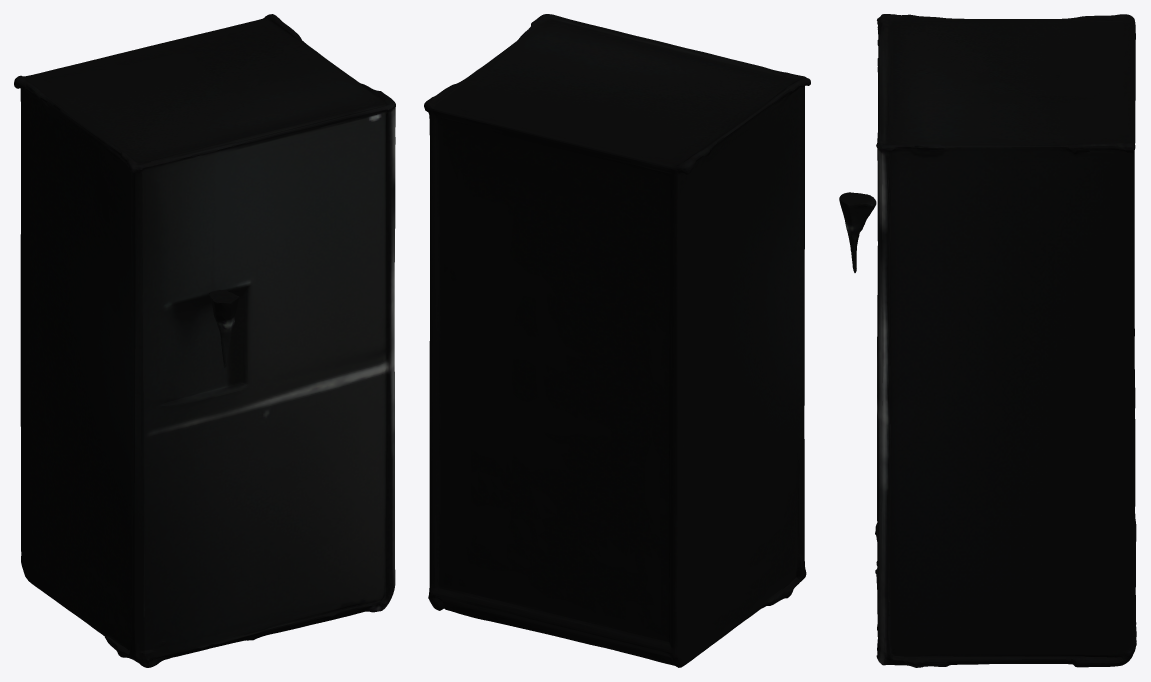
Rendered from Fridge.glb.
The picture shows the model from 3 angles, left to right: view 1: azimuth 30°, elevation 25°; view 2: azimuth 150°, elevation 25°; view 3: azimuth 270°, elevation 25°; orthographic projection. The views are drawn at different scales.
Visible parts, largest first — view 1: world; view 2: world; view 3: world.
Part boxes in pixels (left/top/right/bottom): world: left=14, top=14, right=395, bottom=667; world: left=424, top=14, right=810, bottom=667; world: left=839, top=14, right=1136, bottom=667.
Size of the model in its own units: 0.5478 by 0.9992 by 0.5115.
Materials: 1 (1 with a texture image).
